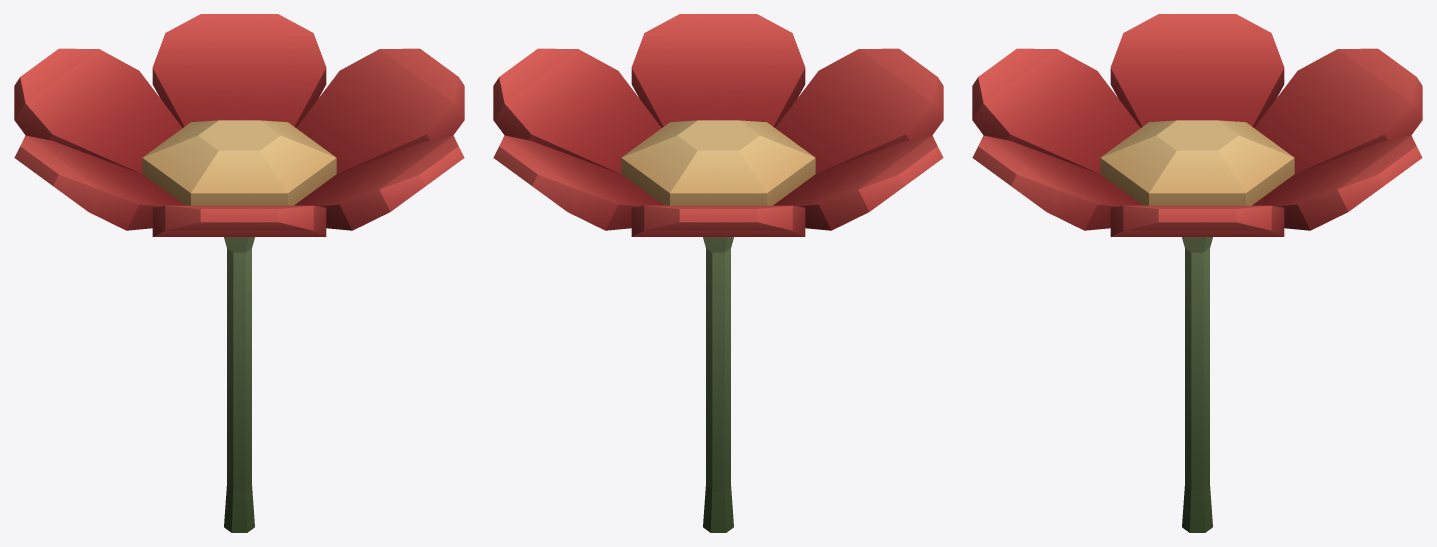
Rendered from kwiatek4.fbx.
The picture shows the model from 3 angles, left to right: view 1: azimuth 30°, elevation 25°; view 2: azimuth 150°, elevation 25°; view 3: azimuth 270°, elevation 25°; orthographic projection.
Visible parts, largest first — view 1: kwiatek4, łodyga.002; view 2: kwiatek4, łodyga.002; view 3: kwiatek4, łodyga.002.
Part boxes in pixels (x1,y1,x2,y2): kwiatek4: [14, 14, 464, 236]; łodyga.002: [142, 120, 336, 532]; kwiatek4: [493, 14, 943, 236]; łodyga.002: [621, 120, 815, 532]; kwiatek4: [972, 14, 1422, 236]; łodyga.002: [1100, 120, 1294, 532].
Bounding box in the file's own units: 489 × 472 × 464.
